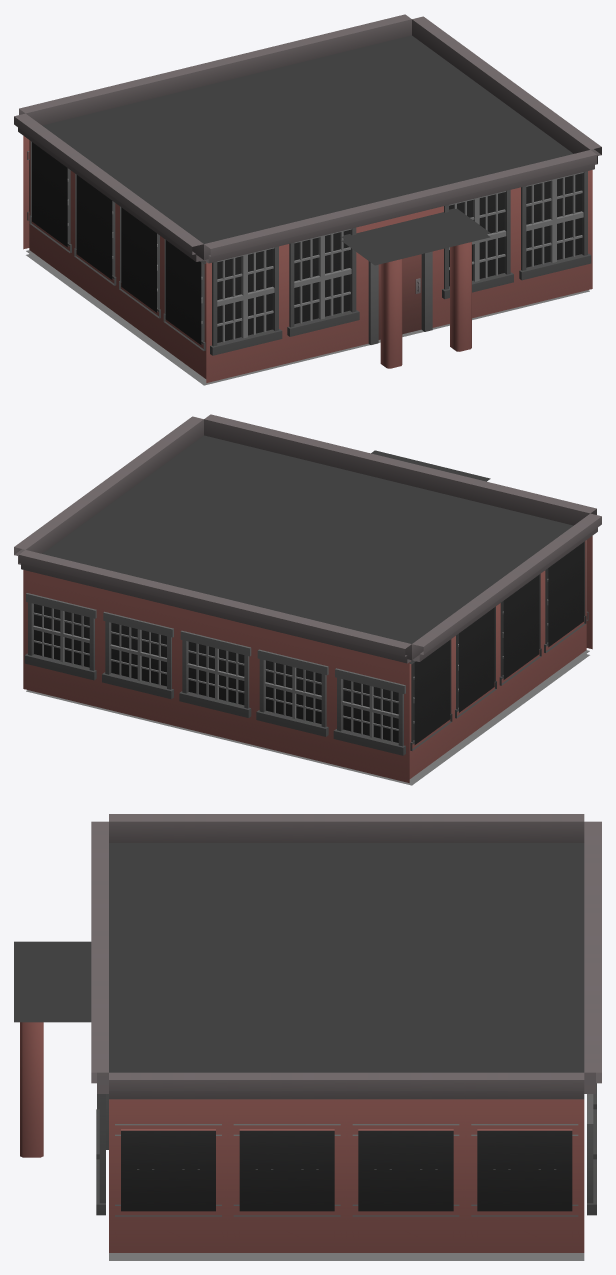
File: glassworks-office.glb
3 renders of one model, top to bottom at view 1: azimuth 30°, elevation 25°; view 2: azimuth 150°, elevation 25°; view 3: azimuth 270°, elevation 25°, orthographic. The views are drawn at different scales.
Parts seen in each view (by area): view 1: TreyIndustrialGlassworksOfficeVisual; view 2: TreyIndustrialGlassworksOfficeVisual; view 3: TreyIndustrialGlassworksOfficeVisual.
Part boxes in pixels (x1,y1,x2,y2): TreyIndustrialGlassworksOfficeVisual: (14, 14, 601, 385); TreyIndustrialGlassworksOfficeVisual: (14, 414, 601, 785); TreyIndustrialGlassworksOfficeVisual: (14, 814, 601, 1260).
Size of the model in its own units: 10.6 by 3.5 by 9.9.
1 material, 1 textured.
